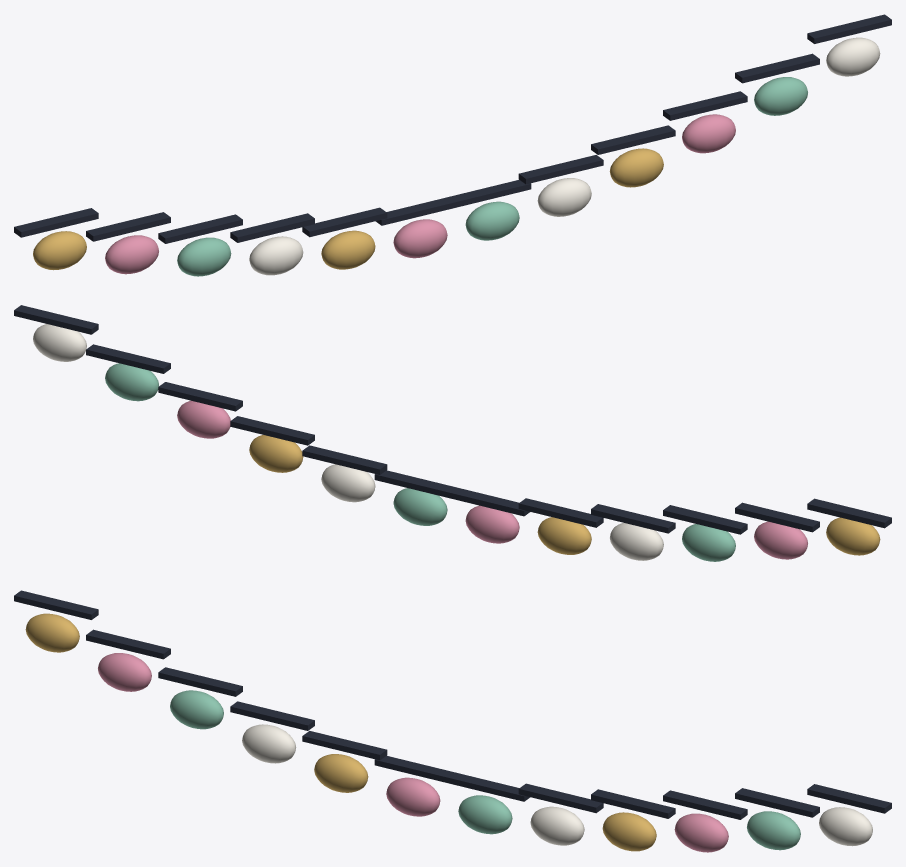
File: string-lights.glb
3 renders of one model, top to bottom at view 1: azimuth 30°, elevation 25°; view 2: azimuth 150°, elevation 25°; view 3: azimuth 330°, elevation 25°, orthographic.
Visible parts, largest first — view 1: string-lights; view 2: string-lights; view 3: string-lights.
Boxes of the visible parts, box(x1,y1,x2,y2) form: string-lights: box(14, 14, 891, 276); string-lights: box(14, 305, 891, 561); string-lights: box(14, 590, 891, 852).
Bounding box in the file's own units: 150 × 20 × 5.
